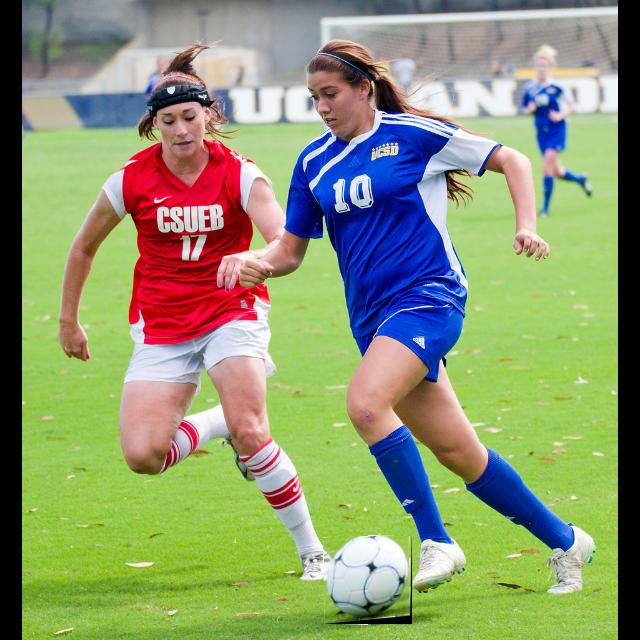Football: (324, 536, 412, 624)
